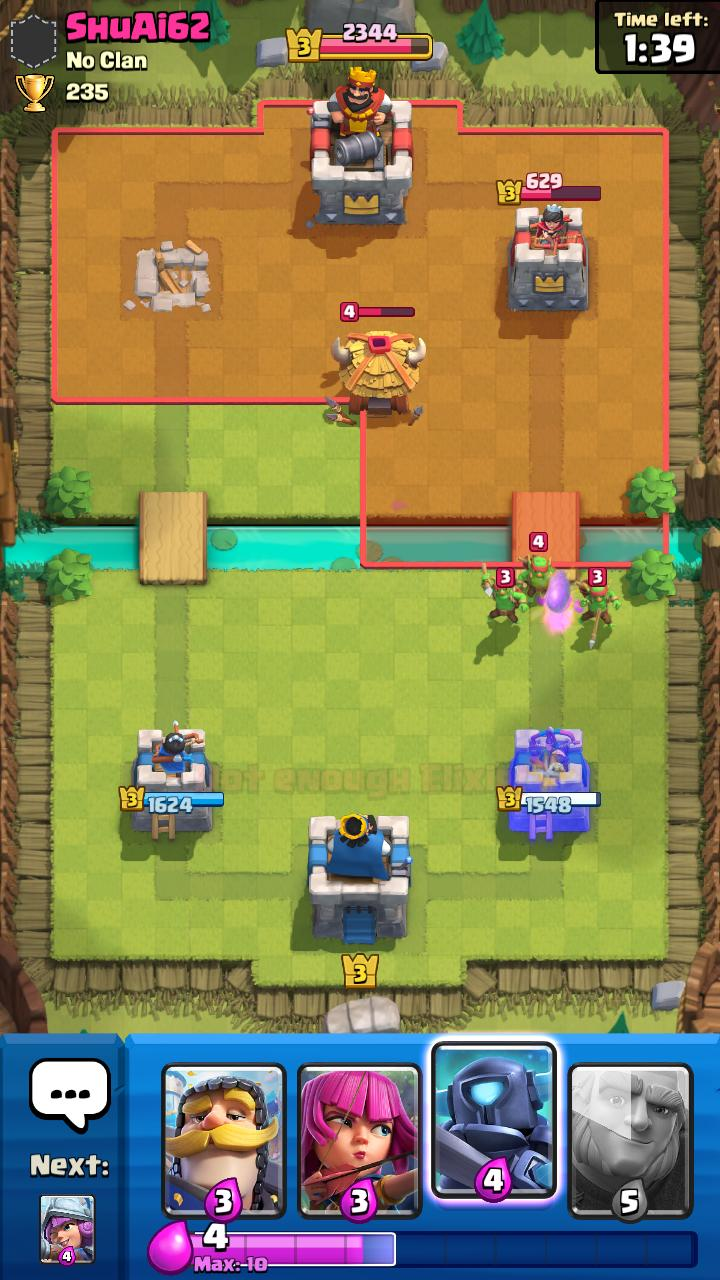enemy: (324, 302, 426, 426), (481, 563, 529, 624), (516, 532, 556, 602), (575, 567, 621, 627)
